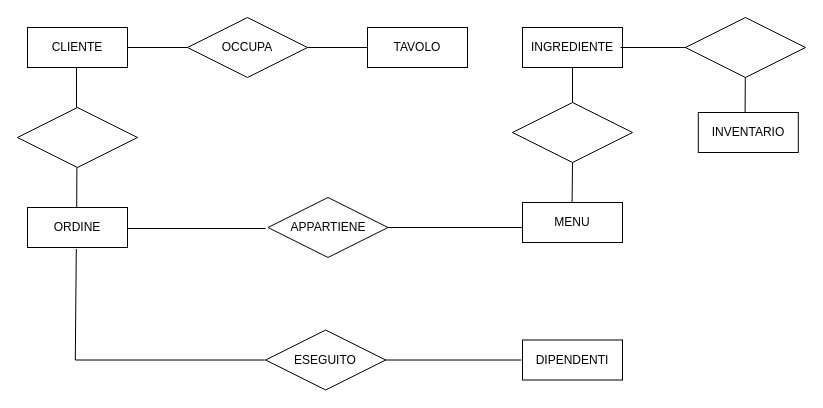
Some shapes in this 823 by 408 pixel diagram are drawn without their labels. The centre of each missing label's shape, as x and y in pixels:
CONTENUTO: the point at 572,132
DISPONIBILE: the point at 745,47
EFFETTUA: the point at 77,137
